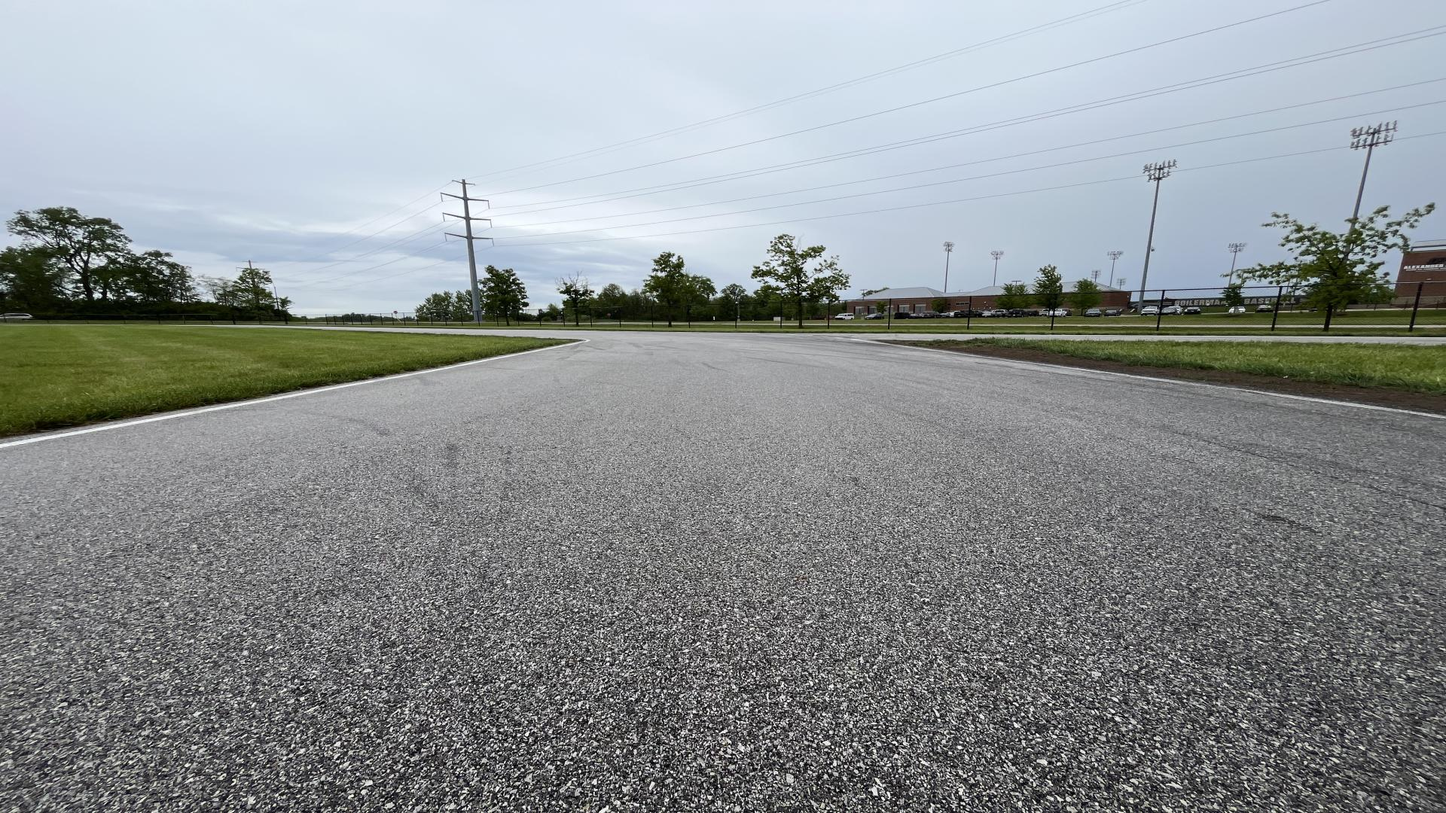white-line: (0, 337, 590, 449), (848, 339, 1445, 419), (715, 332, 764, 334), (834, 337, 844, 339)
